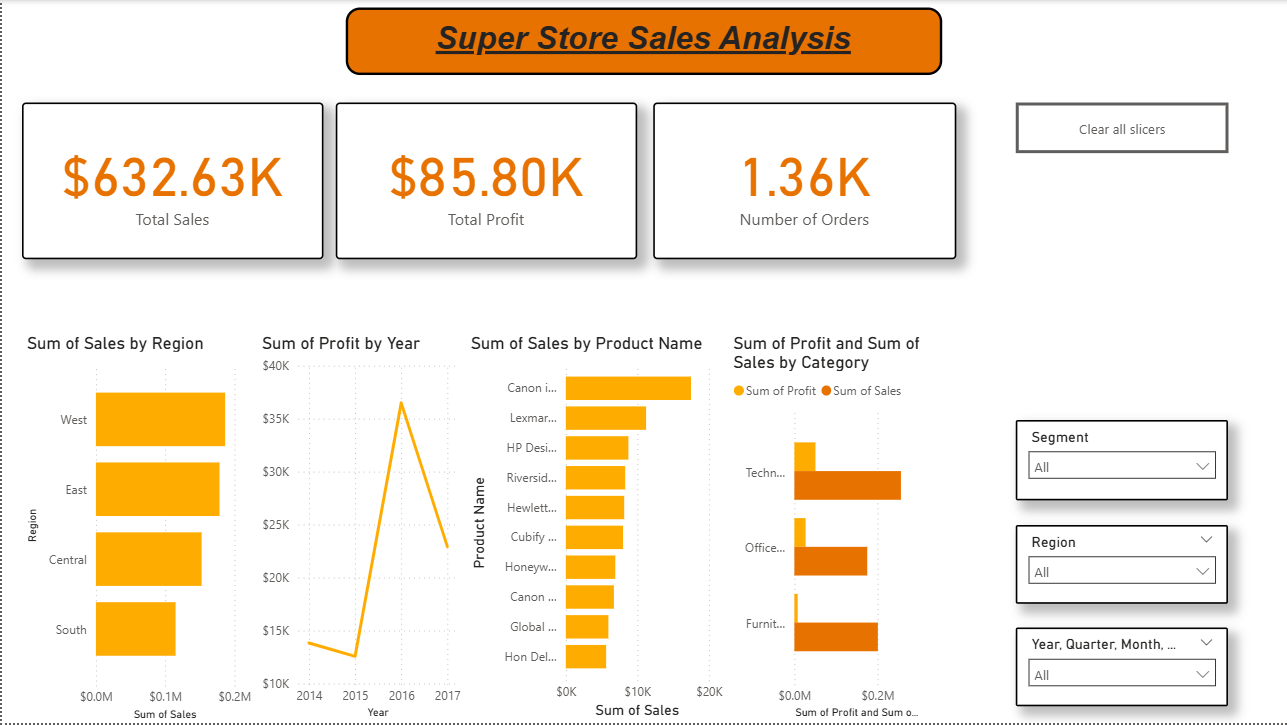

This screenshot's page, from the dashboard's own definition file:
{"tool":"powerbi","page":{"name":"Page 1","canvas":[1280,720],"ordinal":0},"visuals":[{"type":"textbox","box":[342.1,7.5,593.4,67.2],"z":0},{"type":"card","fields":{"Values":["Sum(Superstore_dataset_clean.Sales)"]},"box":[20.2,102.4,300.1,155.8],"z":1000},{"type":"card","fields":{"Values":["Sum(Superstore_dataset_clean.Profit)"]},"box":[331.8,102.4,300.1,155.8],"z":2000},{"type":"card","fields":{"Values":["Count(Superstore_dataset_clean.Order ID)"]},"box":[647.8,102.4,301.5,155.8],"z":3000},{"type":"barChart","fields":{"Category":["Superstore_dataset_clean.Region"],"Y":["Sum(Superstore_dataset_clean.Sales)"]},"box":[20.2,330.4,233.7,391],"z":4000},{"type":"lineChart","fields":{"Category":["Superstore_dataset_clean.Order Date.Variation.Date Hierarchy.Year","Superstore_dataset_clean.Order Date.Variation.Date Hierarchy.Quarter","Superstore_dataset_clean.Order Date.Variation.Date Hierarchy.Month","Superstore_dataset_clean.Order Date.Variation.Date Hierarchy.Day"],"Y":["Sum(Superstore_dataset_clean.Profit)"]},"box":[253.9,330.4,207.8,389.5],"z":5000},{"type":"barChart","fields":{"Category":["Superstore_dataset_clean.Product Name"],"Y":["Sum(Superstore_dataset_clean.Sales)"]},"box":[461.7,330.4,261.1,389.5],"z":6000},{"type":"clusteredBarChart","fields":{"Y":["Sum(Superstore_dataset_clean.Profit)","Sum(Superstore_dataset_clean.Sales)"],"Category":["Superstore_dataset_clean.Category"]},"box":[722.8,330.4,212.1,389.5],"z":7000},{"type":"slicer","fields":{"Values":["Superstore_dataset_clean.Segment"]},"box":[1008.9,418,211.5,79.6],"z":8000},{"type":"slicer","fields":{"Values":["Superstore_dataset_clean.Region"]},"box":[1008.9,522.5,211.5,78.4],"z":9000},{"type":"slicer","fields":{"Values":["Superstore_dataset_clean.Order Date.Variation.Date Hierarchy.Year","Superstore_dataset_clean.Order Date.Variation.Date Hierarchy.Quarter","Superstore_dataset_clean.Order Date.Variation.Date Hierarchy.Month","Superstore_dataset_clean.Order Date.Variation.Date Hierarchy.Day"]},"box":[1008.9,624.5,211.5,78.4],"z":10000},{"type":"actionButton","box":[1008.5,102.4,212.1,50.5],"z":11000}]}

Visuals, with their boxes in screenshot pixels (x1, y1, x2, y2), scaled from the page's 1280x720 canvas onto the 1287x725 screenshot:
textbox: crop(344, 8, 941, 75)
card - Sum(Superstore_dataset_clean.Sales): crop(20, 103, 322, 260)
card - Sum(Superstore_dataset_clean.Profit): crop(334, 103, 635, 260)
card - Count(Superstore_dataset_clean.Order ID): crop(651, 103, 954, 260)
barChart - Superstore_dataset_clean.Region x Sum(Superstore_dataset_clean.Sales): crop(20, 333, 255, 724)
lineChart - Superstore_dataset_clean.Order Date.Variation.Date Hierarchy.Year x Superstore_dataset_clean.Order Date.Variation.Date Hierarchy.Quarter: crop(255, 333, 464, 724)
barChart - Superstore_dataset_clean.Product Name x Sum(Superstore_dataset_clean.Sales): crop(464, 333, 727, 724)
clusteredBarChart - Sum(Superstore_dataset_clean.Profit) x Sum(Superstore_dataset_clean.Sales): crop(727, 333, 940, 724)
slicer - Superstore_dataset_clean.Segment: crop(1014, 421, 1227, 501)
slicer - Superstore_dataset_clean.Region: crop(1014, 526, 1227, 605)
slicer - Superstore_dataset_clean.Order Date.Variation.Date Hierarchy.Year x Superstore_dataset_clean.Order Date.Variation.Date Hierarchy.Quarter: crop(1014, 629, 1227, 708)
actionButton: crop(1014, 103, 1227, 154)
